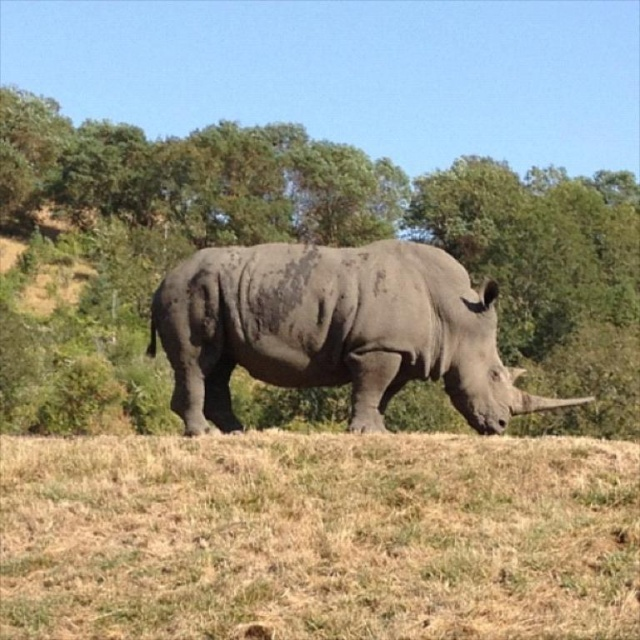Rhinoceros: (139, 234, 601, 447)
